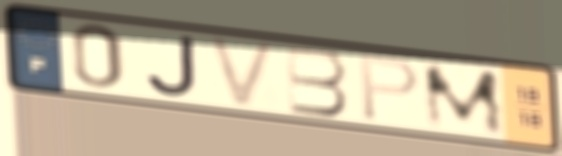0: (68, 22, 128, 93)
B: (283, 44, 352, 119)
J: (143, 33, 201, 99)
M: (419, 63, 510, 137)
P: (356, 54, 423, 124)
V: (204, 33, 282, 111)
